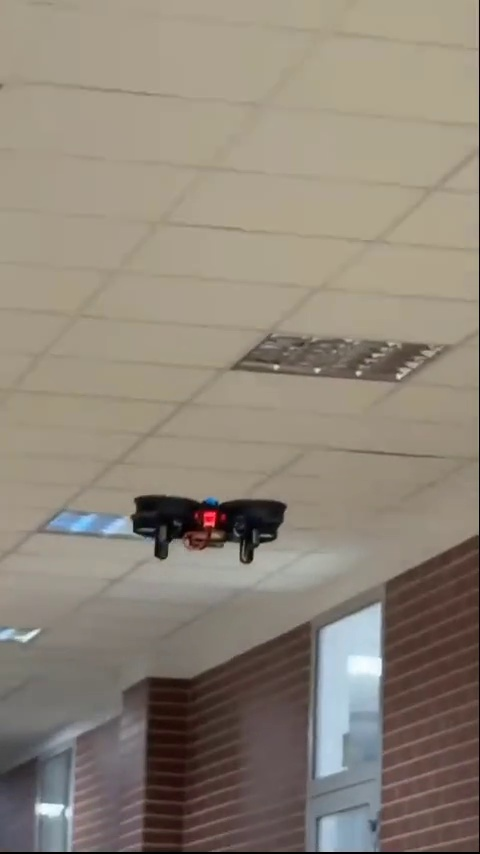drone: (131, 491, 288, 565)
